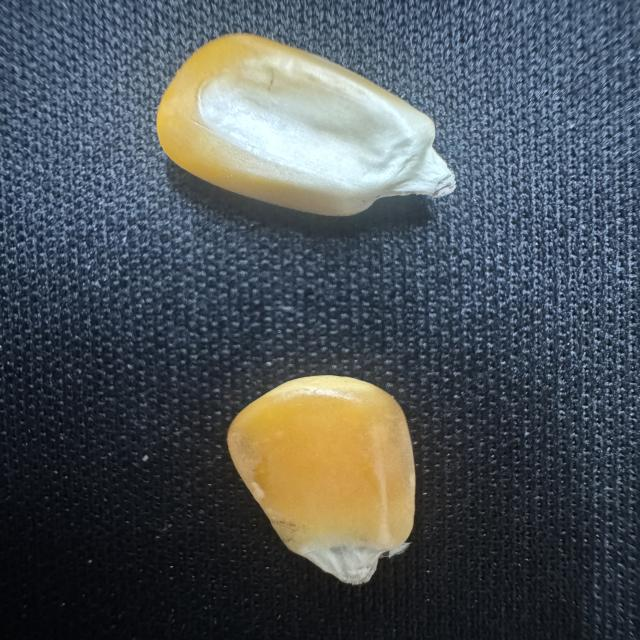Good-Seed: (151, 27, 465, 220), (221, 364, 436, 590)
